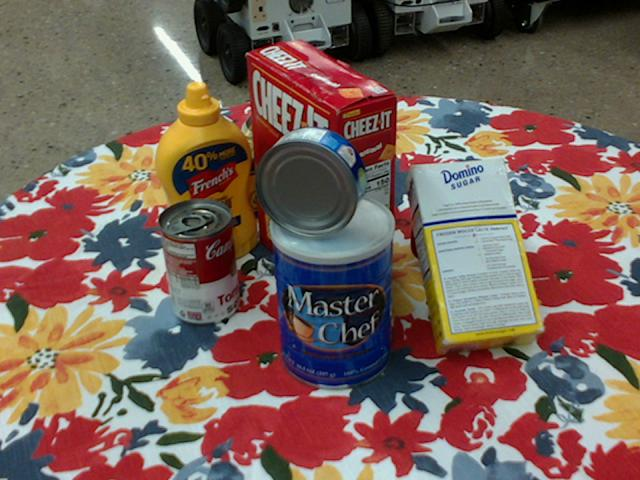cracker_box: (247, 40, 398, 312)
gelatin_box: (301, 127, 378, 208)
large_marker: (241, 82, 288, 136)
master_chef_can: (269, 193, 393, 392)
mug: (407, 163, 503, 270)
mustard_bottle: (154, 83, 256, 268)
potted_meat_can: (214, 124, 308, 224)
sugar_box: (404, 159, 545, 358)
tomato_soup_can: (157, 198, 239, 325)
tuna_fish_can: (255, 127, 367, 239)
